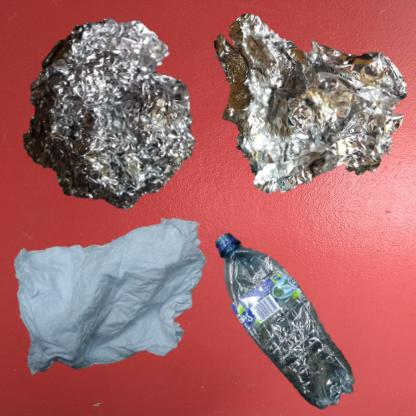aluminio: (10, 10, 204, 223), (213, 10, 409, 195)
botella: (213, 213, 374, 416)
papel: (10, 213, 223, 381)
